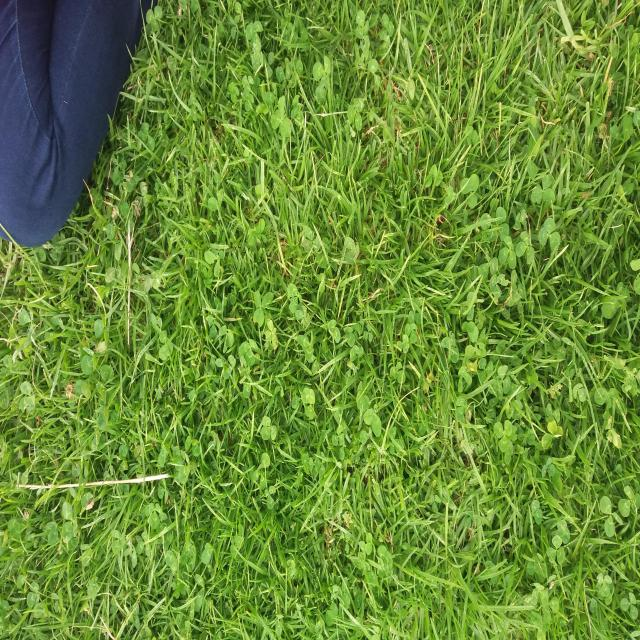Four Leaf Clover: (295, 305, 310, 327)
